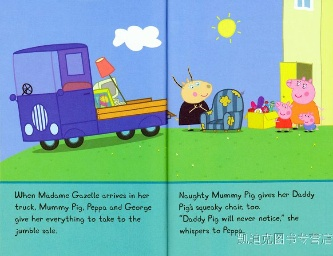Peppa: (273, 101, 294, 135)
